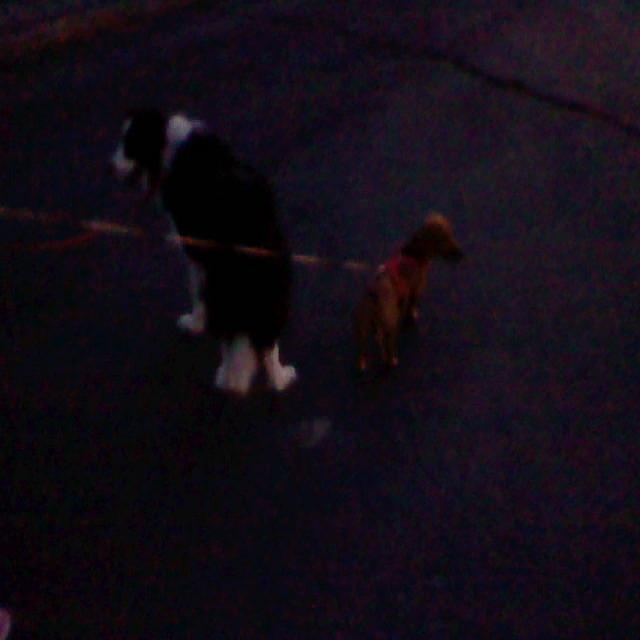Dog: (99, 68, 284, 320)
